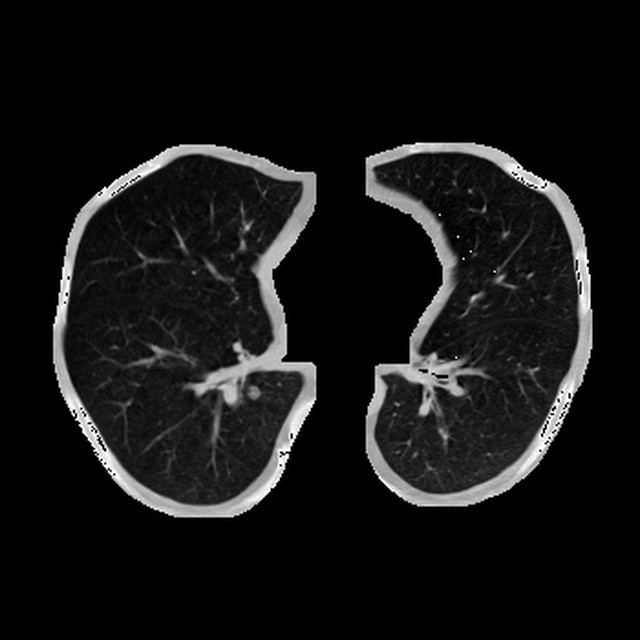PN: (245, 384, 260, 399)
